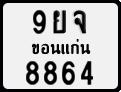letters: (61, 60, 76, 86), (52, 10, 67, 34), (44, 60, 58, 85), (33, 9, 46, 35), (73, 10, 87, 34), (80, 60, 93, 85), (26, 61, 39, 85)
province: (31, 38, 90, 55)
